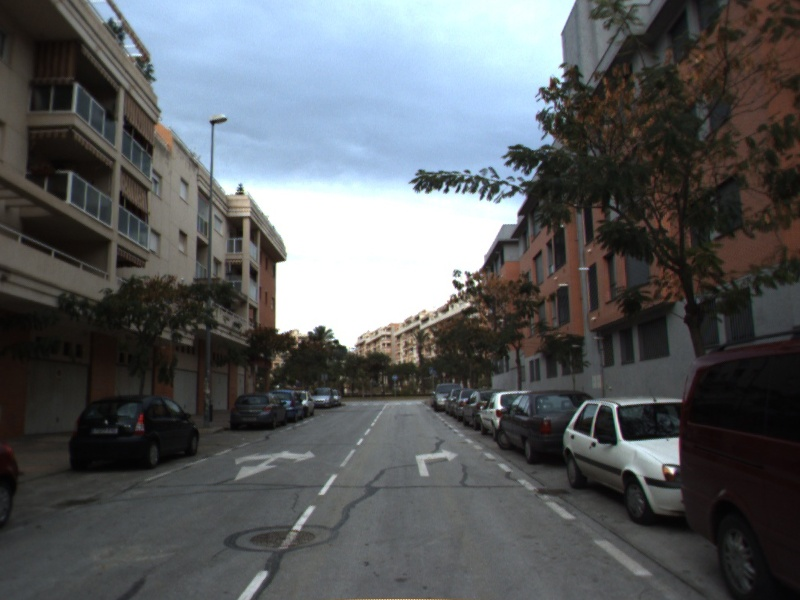RIGHT: (414, 447, 461, 478)
